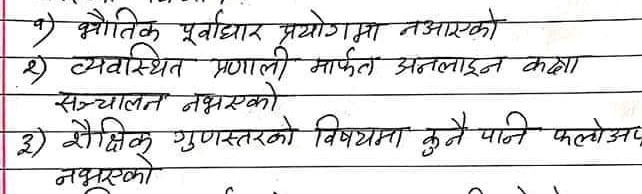text: (168, 115, 299, 154), (67, 42, 189, 78), (274, 8, 385, 44), (53, 153, 164, 189), (61, 116, 157, 155), (547, 115, 642, 152), (396, 8, 499, 42), (309, 111, 406, 147), (75, 4, 166, 42), (176, 8, 268, 45), (179, 81, 281, 114), (52, 88, 171, 115), (394, 53, 506, 80), (211, 46, 297, 81), (309, 45, 382, 79), (416, 109, 469, 154), (478, 108, 531, 147), (517, 53, 584, 78)
